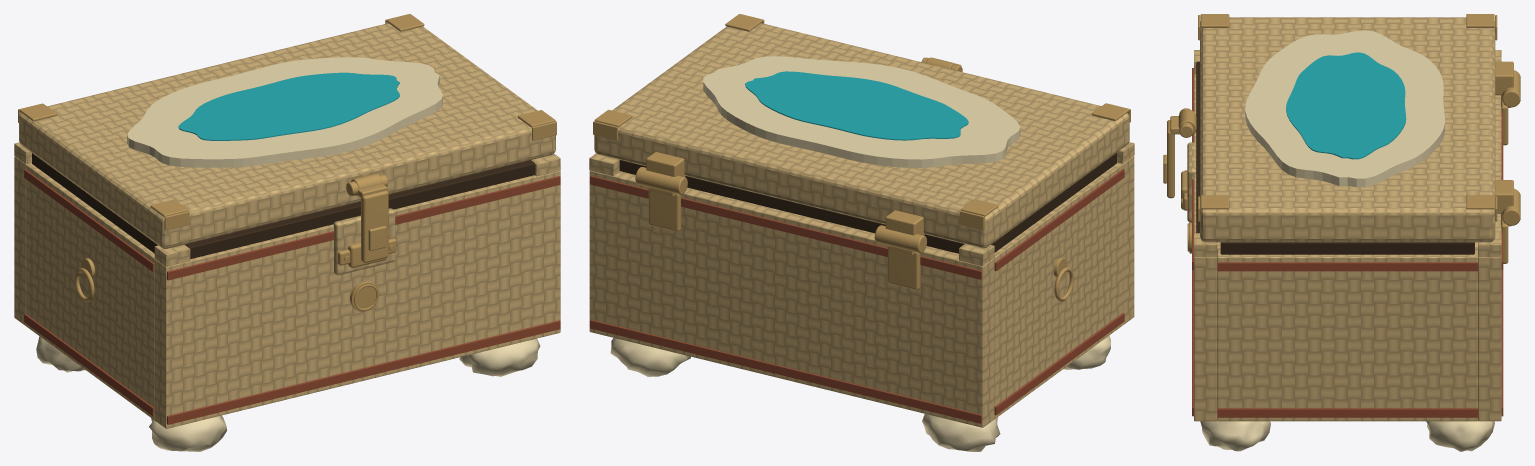
The model's file is tuvalu.glb.
The picture shows the model from 3 angles, left to right: view 1: azimuth 30°, elevation 25°; view 2: azimuth 150°, elevation 25°; view 3: azimuth 270°, elevation 25°; orthographic projection.
Visible parts, largest first — view 1: Pandanus / woven face, Lid / polished slab, Pandanus / woven side, Island / coral sand footprint, Lagoon / contained turquoise inset, Dark seam / long, Fibre / red border, Fibre / red border.001, Coral sand foot, Pandanus / woven face.001, Coral sand foot.002, Latch / lifting hasp (+7 smaller); view 2: Pandanus / woven face.001, Lid / polished slab, Pandanus / woven side, Island / coral sand footprint, Lagoon / contained turquoise inset, Fibre / red border.002, Fibre / red border.003, Dark seam / long.001, Pandanus / woven face, Coral sand foot.001, Coral sand foot.003, Dark seam / side (+11 smaller); view 3: Lid / polished slab, Pandanus / woven side.001, Island / coral sand footprint, Lagoon / contained turquoise inset, Pandanus / woven face.001, Pandanus / woven face, Dark seam / side.001, Fibre / side border.002, Fibre / side border.003, Coral sand foot.002, Coral sand foot.003, Dark seam / long (+13 smaller).
Boxes of the visible parts, x1,y1,x2,y2 form: Pandanus / woven face: [154, 171, 560, 428]; Lid / polished slab: [19, 23, 555, 248]; Pandanus / woven side: [26, 163, 154, 419]; Island / coral sand footprint: [127, 57, 442, 167]; Lagoon / contained turquoise inset: [178, 72, 399, 140]; Dark seam / long: [184, 160, 535, 258]; Fibre / red border: [167, 320, 560, 424]; Fibre / red border.001: [167, 176, 560, 280]; Coral sand foot: [149, 415, 226, 451]; Pandanus / woven face.001: [14, 156, 31, 325]; Coral sand foot.002: [459, 338, 540, 376]; Latch / lifting hasp: [361, 190, 388, 262]; Pandanus / woven face.001: [589, 170, 994, 427]; Lid / polished slab: [594, 23, 1129, 248]; Pandanus / woven side: [994, 163, 1122, 419]; Island / coral sand footprint: [703, 56, 1020, 167]; Lagoon / contained turquoise inset: [745, 71, 968, 140]; Fibre / red border.002: [589, 319, 981, 423]; Fibre / red border.003: [589, 175, 981, 279]; Dark seam / long.001: [619, 160, 964, 253]; Pandanus / woven face: [1117, 156, 1134, 324]; Coral sand foot.001: [922, 414, 1000, 451]; Coral sand foot.003: [610, 338, 690, 376]; Dark seam / side: [991, 153, 1116, 252]; Lid / polished slab: [1200, 17, 1495, 242]; Pandanus / woven side.001: [1217, 249, 1477, 421]; Island / coral sand footprint: [1245, 30, 1444, 187]; Lagoon / contained turquoise inset: [1286, 52, 1406, 159]; Pandanus / woven face.001: [1478, 95, 1501, 421]; Pandanus / woven face: [1194, 74, 1217, 421]; Dark seam / side.001: [1220, 242, 1474, 254]; Fibre / side border.002: [1217, 408, 1477, 417]; Fibre / side border.003: [1217, 262, 1477, 271]; Coral sand foot.002: [1200, 420, 1270, 451]; Coral sand foot.003: [1426, 421, 1494, 451]; Dark seam / long: [1196, 61, 1199, 232].
Size of the model in its own units: 3.8 by 2.37 by 2.88.
Materials: 6 (1 with a texture image).
